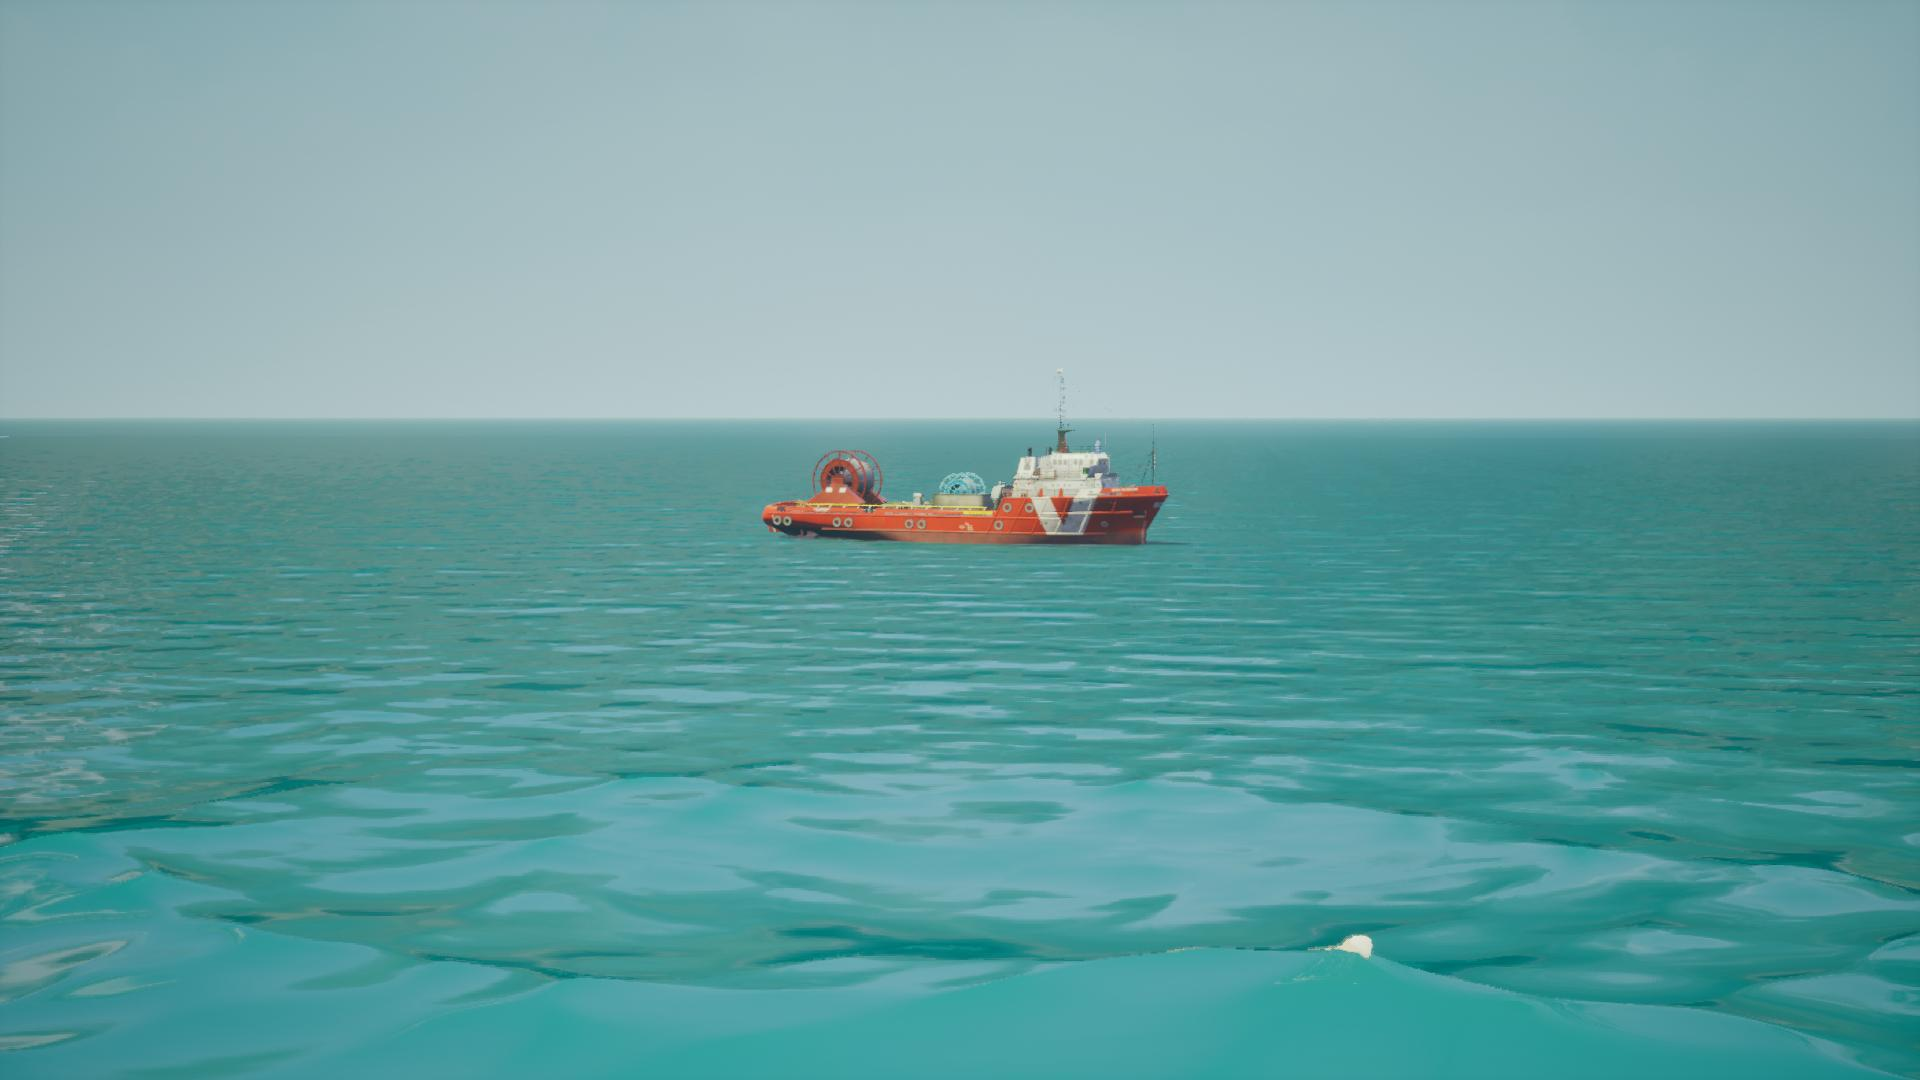Tug Boat: (765, 373, 1170, 547)
